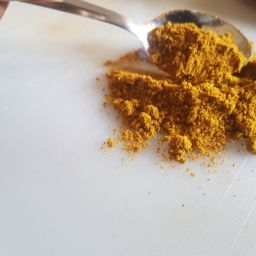Curry powder: (97, 42, 256, 177), (112, 70, 256, 159), (138, 19, 255, 86)
